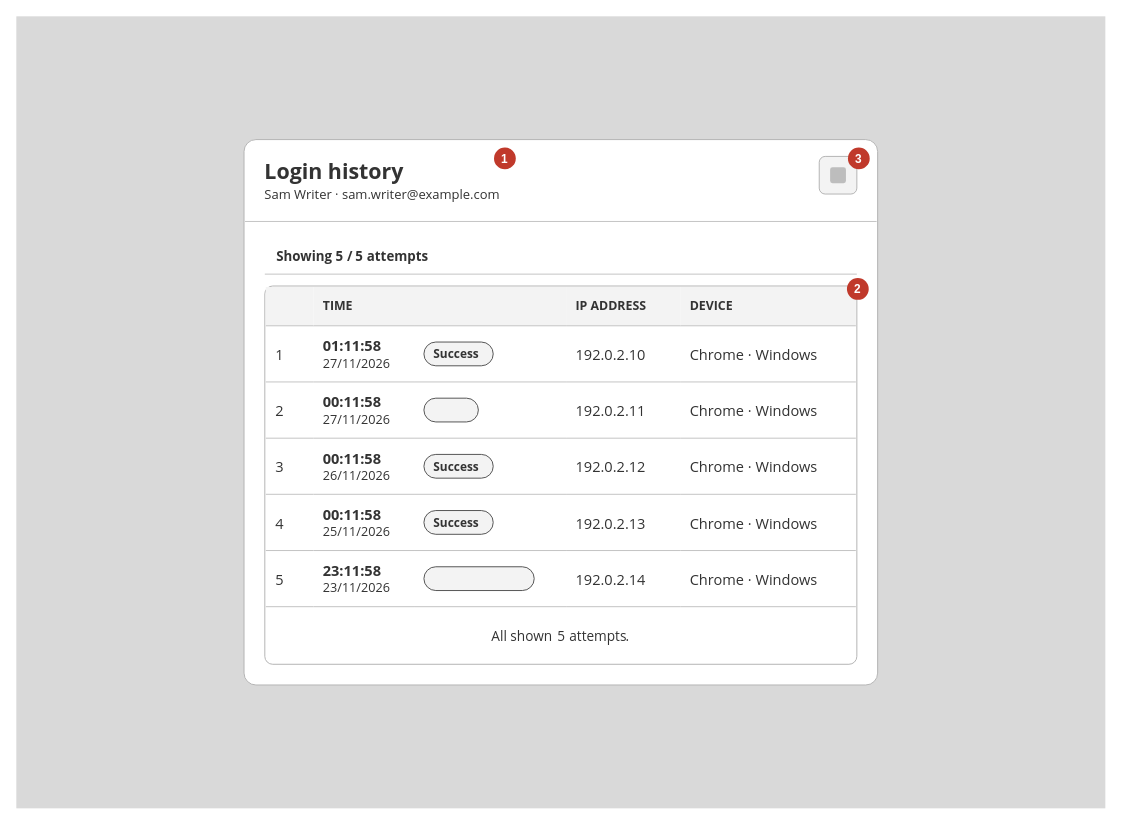
Some shapes in this 1122 by 825 pixel diagram are drawn without their labels. The shapes that lost their labels are listed below. From the top down, each one's centre as x and y in pixels, then its label:
the point at 289,306: NO.
the point at 490,306: RESULT
the point at 450,409: Failed
the point at 478,578: Account locked
